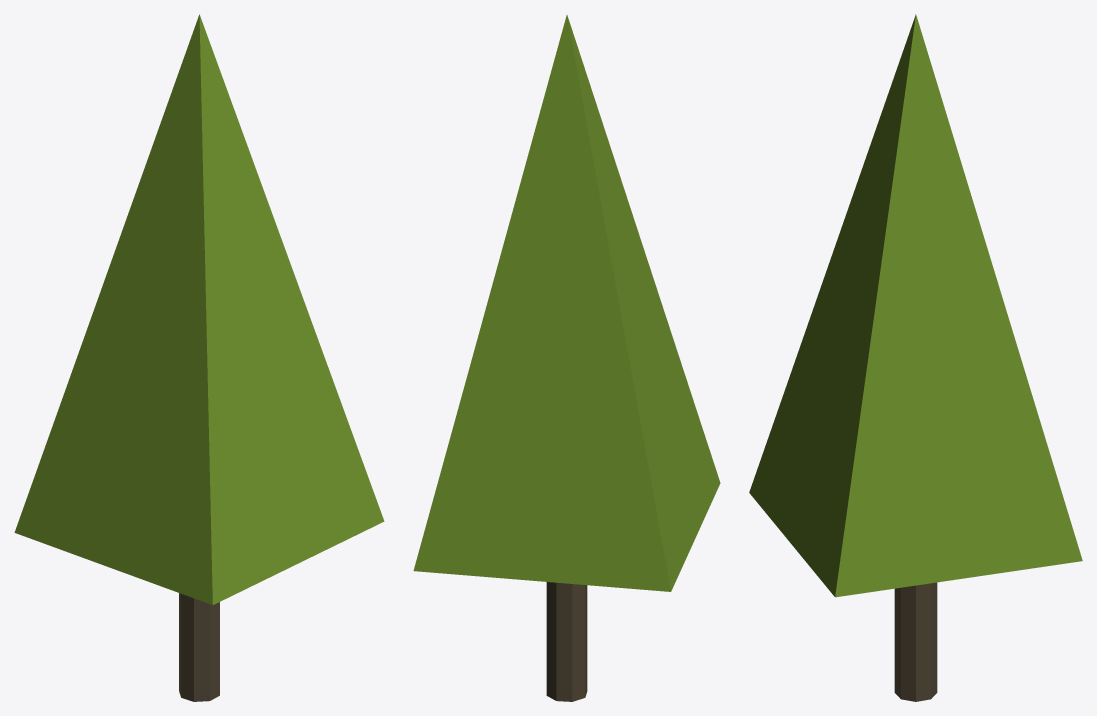
File: tree type 2 (1).fbx
3 renders of one model, left to right at view 1: azimuth 30°, elevation 25°; view 2: azimuth 150°, elevation 25°; view 3: azimuth 270°, elevation 25°, orthographic.
Parts seen in each view (by area): view 1: Cone.001_Cone.007, Cone.001_Cone.006, Cone.001_Cone.002, Cone.001_Cone.008, Cone.001_Cone.004, Cone.001_Cone.005, Cone.001_Cone.003, Cone.001_Cone.001; view 2: Cone.001_Cone.007, Cone.001_Cone.006, Cone.001_Cone.002, Cone.001_Cone.008, Cone.001_Cone.004, Cone.001_Cone.005, Cone.001_Cone.003, Cone.001_Cone.001; view 3: Cone.001_Cone.002, Cone.001_Cone.008, Cone.001_Cone.005, Cone.001_Cone.003, Cone.001_Cone.001, Cone.001_Cone.007, Cone.001_Cone.006, Cone.001_Cone.004.
Boxes of the visible parts, x1,y1,x2,y2 form: Cone.001_Cone.007: [14, 419, 226, 605]; Cone.001_Cone.006: [55, 278, 220, 471]; Cone.001_Cone.002: [220, 398, 384, 598]; Cone.001_Cone.008: [213, 277, 339, 464]; Cone.001_Cone.004: [105, 150, 213, 315]; Cone.001_Cone.005: [206, 137, 295, 312]; Cone.001_Cone.003: [151, 14, 244, 165]; Cone.001_Cone.001: [179, 593, 219, 701]; Cone.001_Cone.007: [560, 377, 720, 591]; Cone.001_Cone.006: [562, 254, 685, 464]; Cone.001_Cone.002: [413, 439, 561, 582]; Cone.001_Cone.008: [450, 301, 563, 453]; Cone.001_Cone.004: [563, 135, 645, 307]; Cone.001_Cone.005: [488, 152, 565, 304]; Cone.001_Cone.003: [529, 15, 606, 165]; Cone.001_Cone.001: [546, 582, 587, 701]; Cone.001_Cone.002: [756, 390, 1082, 597]; Cone.001_Cone.008: [792, 263, 1042, 455]; Cone.001_Cone.005: [834, 139, 1001, 316]; Cone.001_Cone.003: [873, 14, 957, 155]; Cone.001_Cone.001: [894, 582, 937, 701]; Cone.001_Cone.007: [749, 385, 792, 500]; Cone.001_Cone.006: [787, 259, 833, 389]; Cone.001_Cone.004: [831, 137, 874, 262].
Bounding box in the file's own units: 85.1 × 191 × 85.1.
